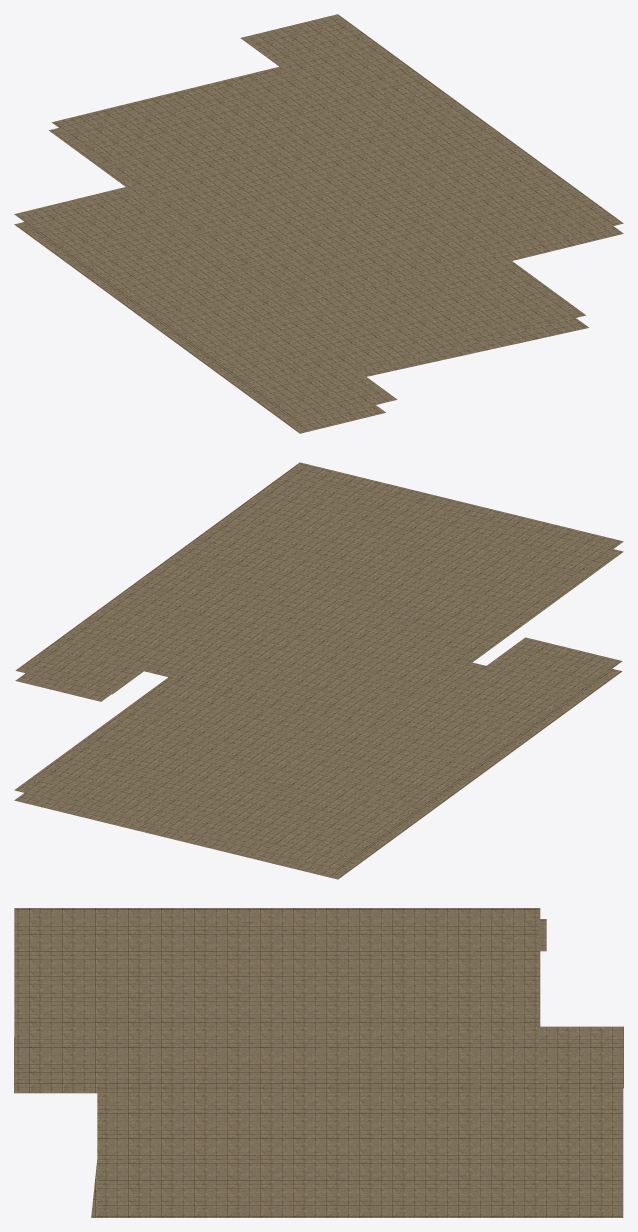
The model's file is buildingb_id_2_tilesplaina_d_0_lev1.glb.
The picture shows the model from 3 angles, top to bottom: view 1: azimuth 30°, elevation 25°; view 2: azimuth 150°, elevation 25°; view 3: azimuth 270°, elevation 25°; orthographic projection. The views are drawn at different scales.
Visible parts, largest first — view 1: buildingb_id_2_tilesplaina_d_0_lev1; view 2: buildingb_id_2_tilesplaina_d_0_lev1; view 3: buildingb_id_2_tilesplaina_d_0_lev1.
Part boxes in pixels (box(x1,y1,x2,y2)): buildingb_id_2_tilesplaina_d_0_lev1: box(14, 14, 623, 433); buildingb_id_2_tilesplaina_d_0_lev1: box(14, 462, 623, 879); buildingb_id_2_tilesplaina_d_0_lev1: box(14, 908, 623, 1217).
Size of the model in its own units: 6.43 by 2.46 by 9.75.
1 material, 1 textured.
